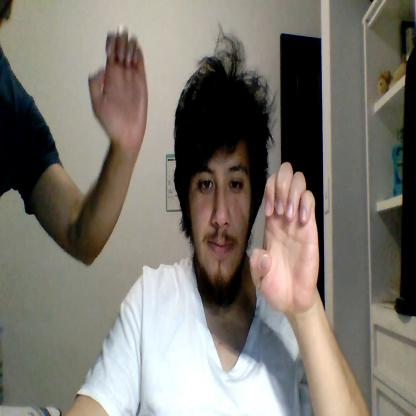E: (250, 162, 320, 311), (88, 24, 148, 151)
